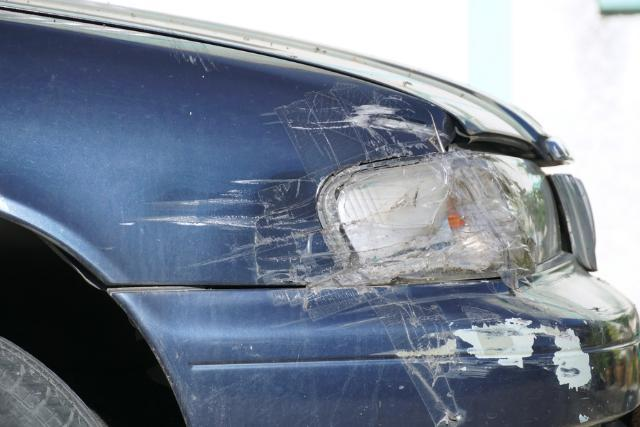Fender: (78, 66, 640, 427)
